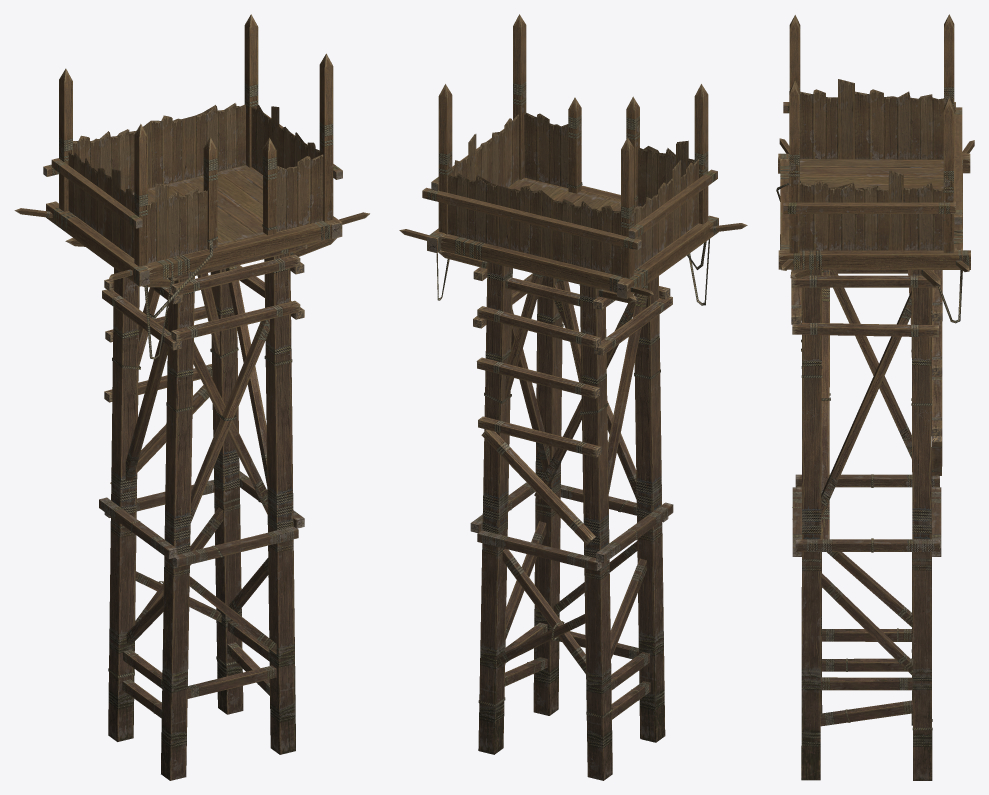
Rendered from i_hl_gaoshaota01_lod1.FBX.
3 renders of one model, left to right at view 1: azimuth 30°, elevation 25°; view 2: azimuth 150°, elevation 25°; view 3: azimuth 270°, elevation 25°, orthographic. The views are drawn at different scales.
Visible parts, largest first — view 1: i_hl_gaoshaota01_lod1; view 2: i_hl_gaoshaota01_lod1; view 3: i_hl_gaoshaota01_lod1.
Part boxes in pixels (x1,y1,x2,y2): i_hl_gaoshaota01_lod1: (14, 14, 369, 780); i_hl_gaoshaota01_lod1: (399, 14, 747, 780); i_hl_gaoshaota01_lod1: (776, 14, 974, 780).
Size of the model in its own units: 6.94 by 17.5 by 4.42.
